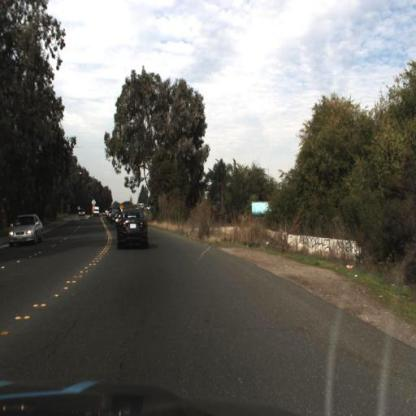car: (117, 205, 151, 250), (9, 214, 45, 246), (108, 205, 119, 230), (74, 204, 87, 222), (92, 204, 102, 220)
